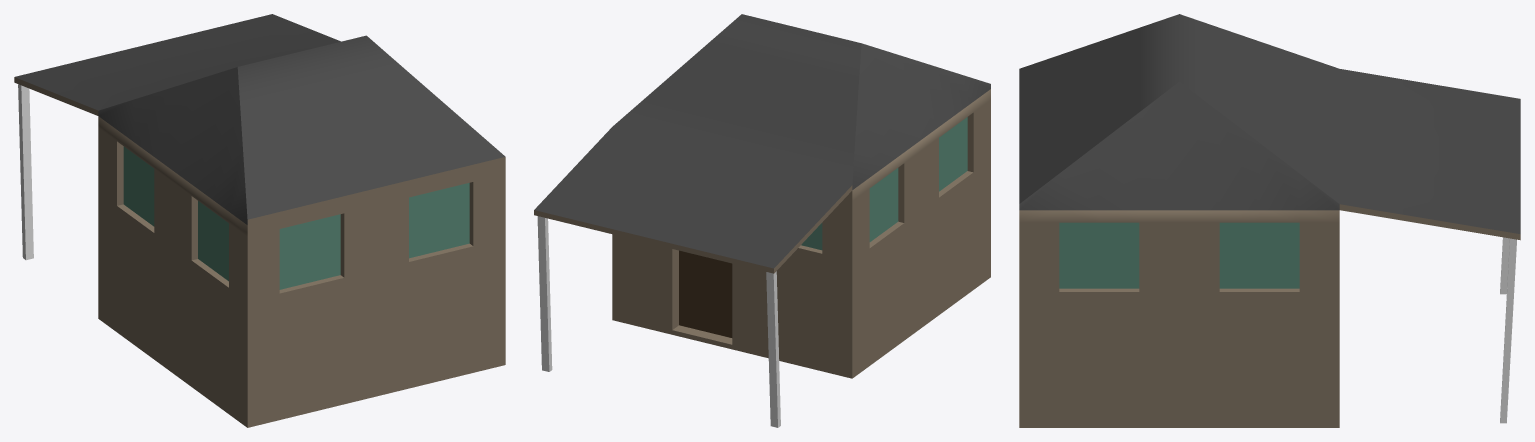
Rendered from House3-2.fbx.
3 views of the same model, side by side, from view 1: azimuth 30°, elevation 25°; view 2: azimuth 150°, elevation 25°; view 3: azimuth 270°, elevation 25° (orthographic). The views are drawn at different scales.
Parts seen in each view (by area): view 1: pCube4.002; view 2: pCube4.002; view 3: pCube4.002.
Part boxes in pixels (left/top/right/bottom): pCube4.002: left=14, top=14, right=505, bottom=427; pCube4.002: left=534, top=14, right=990, bottom=427; pCube4.002: left=1019, top=14, right=1520, bottom=427.
Bounding box in the file's own units: 8 × 8.61 × 12.52.
